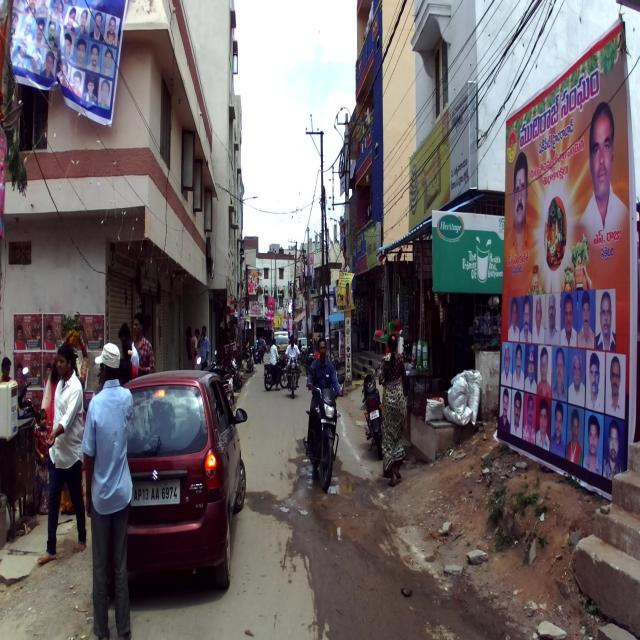car: (96, 368, 250, 594)
motorcycle: (302, 364, 345, 492), (360, 362, 386, 460), (284, 353, 302, 398)
